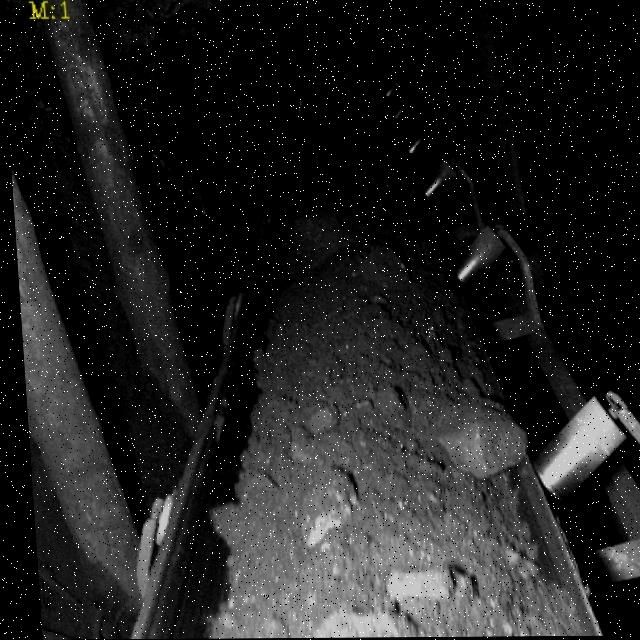large_sized_coal: (430, 405, 523, 483), (277, 205, 352, 271), (288, 474, 355, 547), (372, 570, 483, 606), (296, 615, 409, 638), (350, 245, 410, 288)
